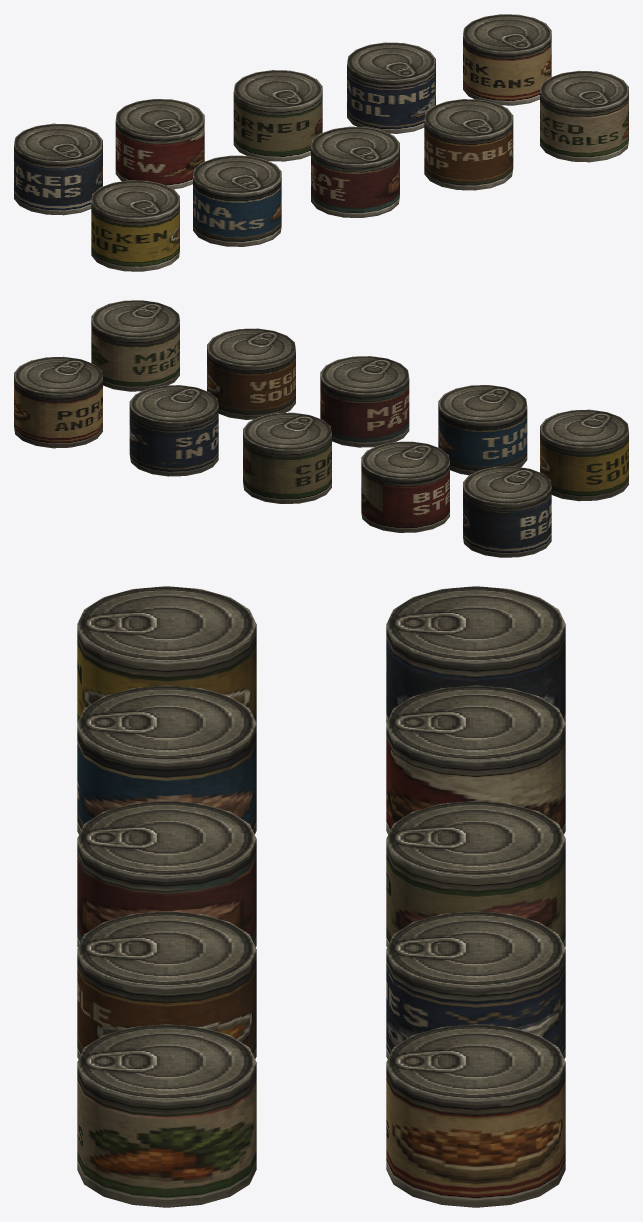
The model's file is Canned Food.fbx.
The picture shows the model from 3 angles, top to bottom: view 1: azimuth 30°, elevation 25°; view 2: azimuth 150°, elevation 25°; view 3: azimuth 270°, elevation 25°; orthographic projection. The views are drawn at different scales.
Visible parts, largest first — view 1: Can 9, Can 6, Can 7, Can 10, Can 8, Can 3, Can 1, Can 5, Can 4, Can 2; view 2: Can 4, Can 1, Can 2, Can 5, Can 3, Can 8, Can 6, Can 10, Can 9, Can 7; view 3: Can 10, Can 5, Can 2, Can 7, Can 4, Can 9, Can 3, Can 8, Can 1, Can 6.
Boxes of the visible parts, x1=… form: Can 9: x1=424, y1=99, x2=513, y2=190; Can 6: x1=91, y1=180, x2=179, y2=271; Can 7: x1=193, y1=155, x2=281, y2=246; Can 10: x1=540, y1=70, x2=628, y2=162; Can 8: x1=311, y1=126, x2=399, y2=217; Can 3: x1=233, y1=70, x2=322, y2=161; Can 1: x1=14, y1=123, x2=102, y2=215; Can 5: x1=463, y1=14, x2=551, y2=105; Can 4: x1=347, y1=42, x2=435, y2=133; Can 2: x1=115, y1=99, x2=204, y2=188; Can 4: x1=129, y1=385, x2=218, y2=476; Can 1: x1=463, y1=466, x2=551, y2=557; Can 2: x1=361, y1=441, x2=449, y2=532; Can 5: x1=14, y1=356, x2=102, y2=448; Can 3: x1=243, y1=412, x2=331, y2=503; Can 8: x1=320, y1=356, x2=409, y2=447; Can 6: x1=540, y1=409, x2=628, y2=501; Can 10: x1=91, y1=300, x2=179, y2=391; Can 9: x1=207, y1=328, x2=295, y2=419; Can 7: x1=438, y1=385, x2=527, y2=474; Can 10: x1=77, y1=1024, x2=256, y2=1207; Can 5: x1=386, y1=1024, x2=565, y2=1207; Can 2: x1=386, y1=685, x2=565, y2=834; Can 7: x1=77, y1=685, x2=256, y2=834; Can 4: x1=386, y1=911, x2=565, y2=1058; Can 9: x1=77, y1=911, x2=256, y2=1058; Can 3: x1=386, y1=800, x2=565, y2=947; Can 8: x1=77, y1=800, x2=256, y2=947; Can 1: x1=386, y1=586, x2=565, y2=722; Can 6: x1=77, y1=586, x2=256, y2=722.
Size of the model in its own units: 585 by 57.29 by 235.
